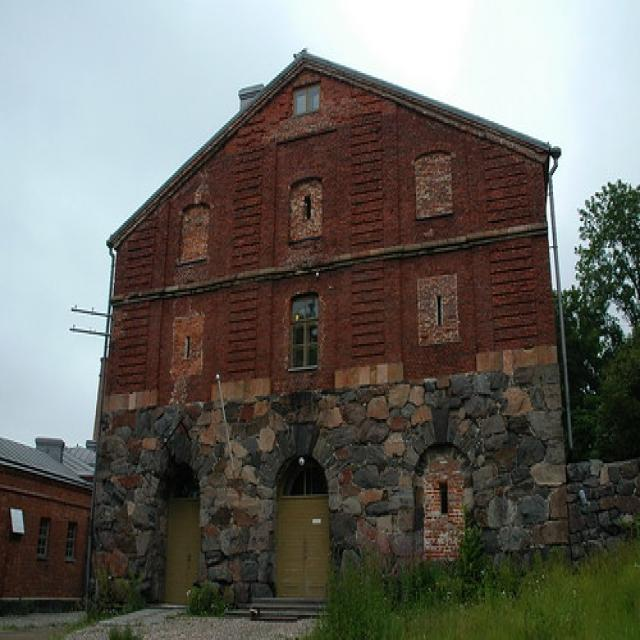Normal_building: (77, 44, 577, 611)
